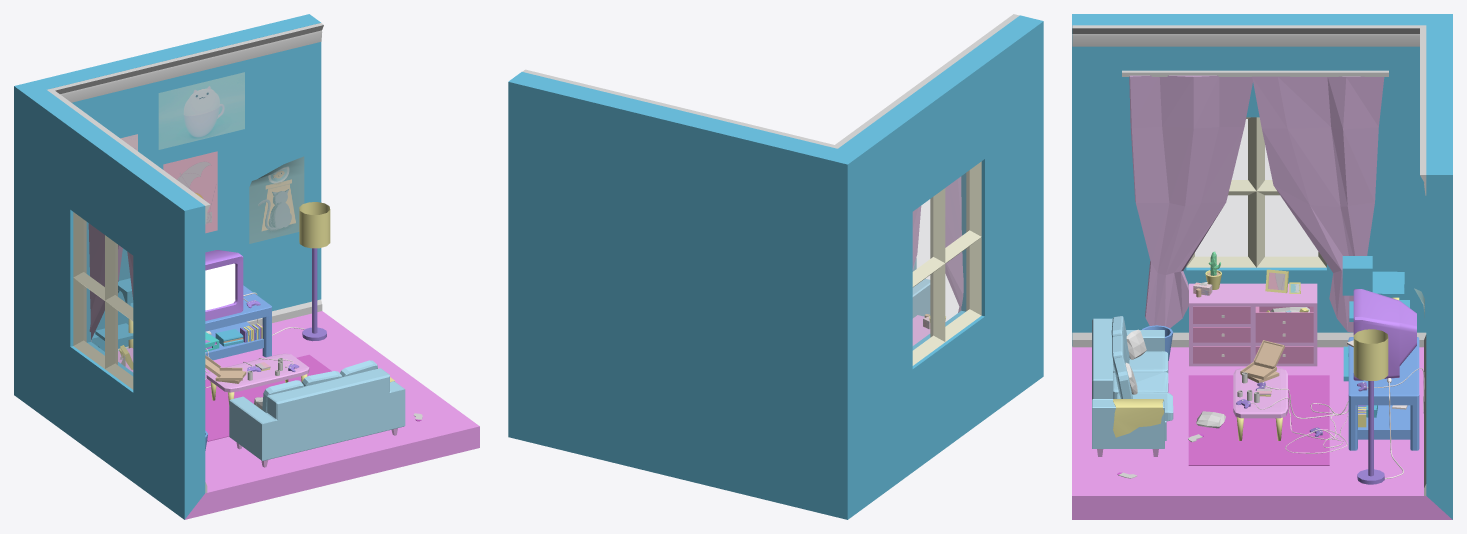
Rendered from pastel_gaming_isometric_room.glb.
The picture shows the model from 3 angles, left to right: view 1: azimuth 30°, elevation 25°; view 2: azimuth 150°, elevation 25°; view 3: azimuth 270°, elevation 25°; orthographic projection. The views are drawn at different scales.
Visible parts, largest first — view 1: Room, Couch, Room.001, Cube.132, Plane.006, Plane, Cylinder.004, Plane.011, Plane.001, Table, TvTable, Plane.005 (+6 smaller); view 2: Room, Room.001, Plane.004, Cube.018, Cube.132, Couch; view 3: Room, Plane.004, Plane.005, Plane.001, Room.001, Cube.018, Couch, Drawers, Cube.063, TvTable, TV, Cylinder.004 (+17 smaller).
Part boxes in pixels (left/top/right/bottom): Room: left=14, top=14, right=479, bottom=519; Couch: left=229, top=368, right=405, bottom=460; Room.001: left=73, top=212, right=133, bottom=389; Cube.132: left=47, top=23, right=323, bottom=102; Plane.006: left=158, top=72, right=244, bottom=149; Plane: left=249, top=156, right=304, bottom=243; Cylinder.004: left=299, top=202, right=330, bottom=341; Plane.011: left=163, top=151, right=217, bottom=233; Plane.001: left=205, top=354, right=331, bottom=441; Table: left=206, top=353, right=309, bottom=392; TvTable: left=205, top=285, right=271, bottom=357; Plane.005: left=88, top=223, right=122, bottom=341; Room: left=508, top=15, right=1043, bottom=519; Room.001: left=912, top=161, right=981, bottom=365; Plane.004: left=945, top=176, right=963, bottom=312; Cube.018: left=834, top=14, right=1019, bottom=147; Cube.132: left=522, top=69, right=840, bottom=148; Couch: left=912, top=258, right=930, bottom=318; Room: left=1072, top=14, right=1452, bottom=519; Plane.004: left=1129, top=75, right=1252, bottom=327; Plane.005: left=1252, top=76, right=1384, bottom=332; Plane.001: left=1188, top=375, right=1329, bottom=465; Room.001: left=1186, top=117, right=1326, bottom=267; Cube.018: left=1072, top=25, right=1419, bottom=46; Couch: left=1092, top=318, right=1166, bottom=448; Drawers: left=1189, top=283, right=1317, bottom=366; Cube.063: left=1193, top=306, right=1313, bottom=363; TvTable: left=1348, top=337, right=1419, bottom=450; TV: left=1353, top=289, right=1416, bottom=380; Cylinder.004: left=1353, top=329, right=1388, bottom=484.
Size of the model in its own units: 1075 by 1075 by 1075.
Materials: 28 (4 with a texture image).
